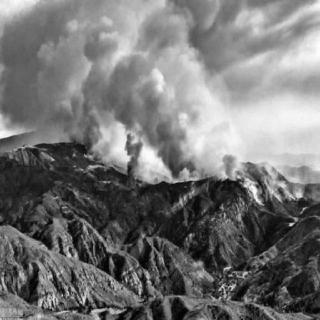Smoke: (26, 18, 222, 166)
